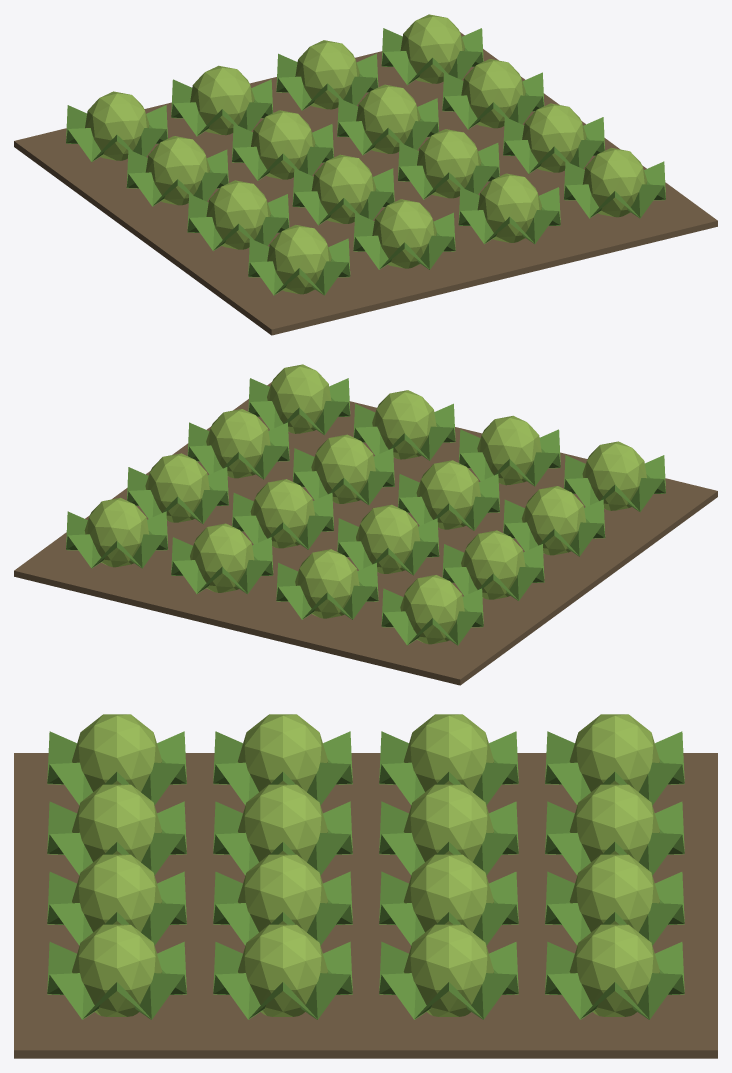
Rendered from vegetable-field.glb.
3 views of the same model, one above another, from view 1: azimuth 30°, elevation 25°; view 2: azimuth 150°, elevation 25°; view 3: azimuth 270°, elevation 25° (orthographic). The views are drawn at different scales.
Visible parts, largest first — view 1: Static_mesh; view 2: Static_mesh; view 3: Static_mesh.
Boxes of the visible parts, x1=… form: Static_mesh: x1=14, y1=14, x2=717, y2=335; Static_mesh: x1=14, y1=364, x2=717, y2=685; Static_mesh: x1=14, y1=714, x2=717, y2=1058.
Size of the model in its own units: 2.8 by 0.4 by 2.8.
